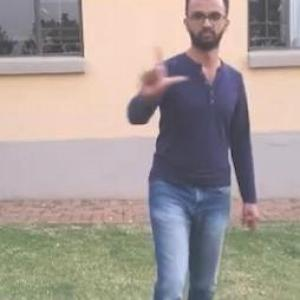land_hand: (129, 39, 188, 109)
